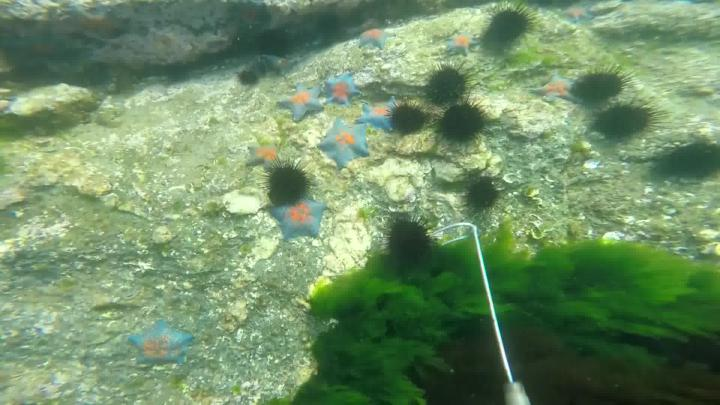echinus: (593, 100, 665, 140), (260, 154, 313, 206), (483, 1, 535, 49), (382, 216, 432, 265), (438, 99, 489, 144), (575, 67, 633, 104), (667, 139, 720, 175), (426, 64, 469, 107), (384, 101, 425, 137), (468, 180, 502, 208), (259, 32, 290, 59), (237, 72, 262, 85)
starfish: (128, 324, 190, 372), (270, 196, 332, 241), (323, 119, 374, 171), (275, 82, 328, 121), (533, 77, 579, 103), (324, 72, 355, 104), (356, 105, 401, 126), (361, 29, 391, 48)
